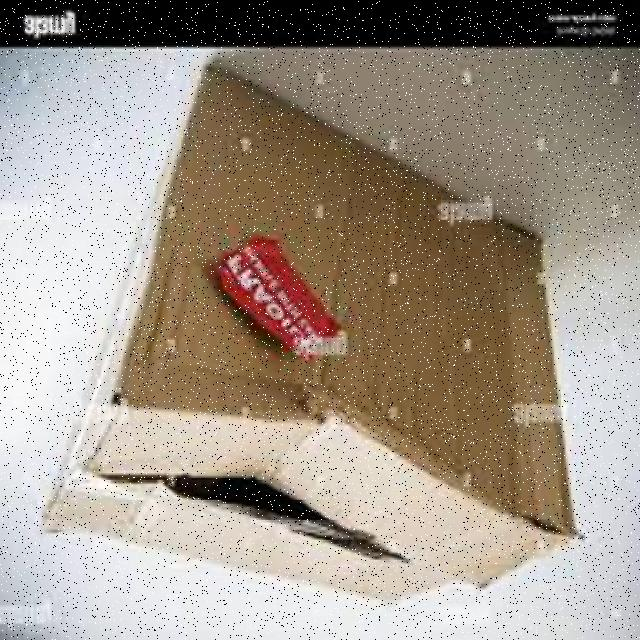defect: (36, 63, 578, 595)
